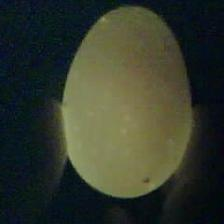infertile: (59, 4, 193, 199)
